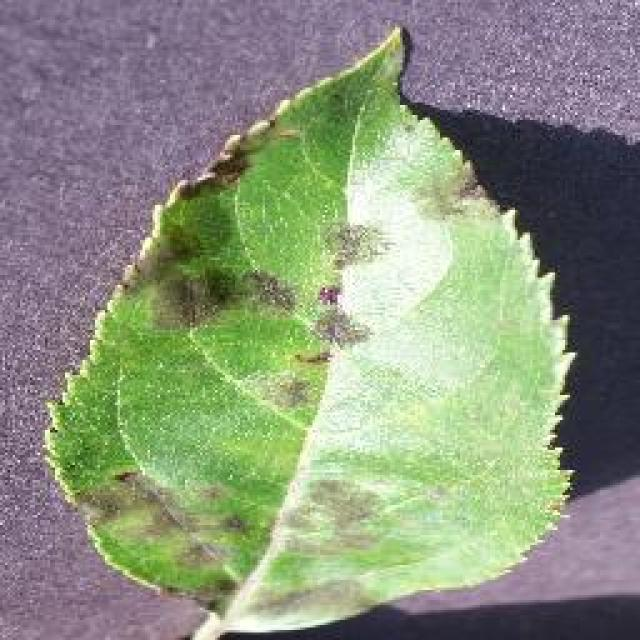apple scab disease: (40, 22, 580, 638)
